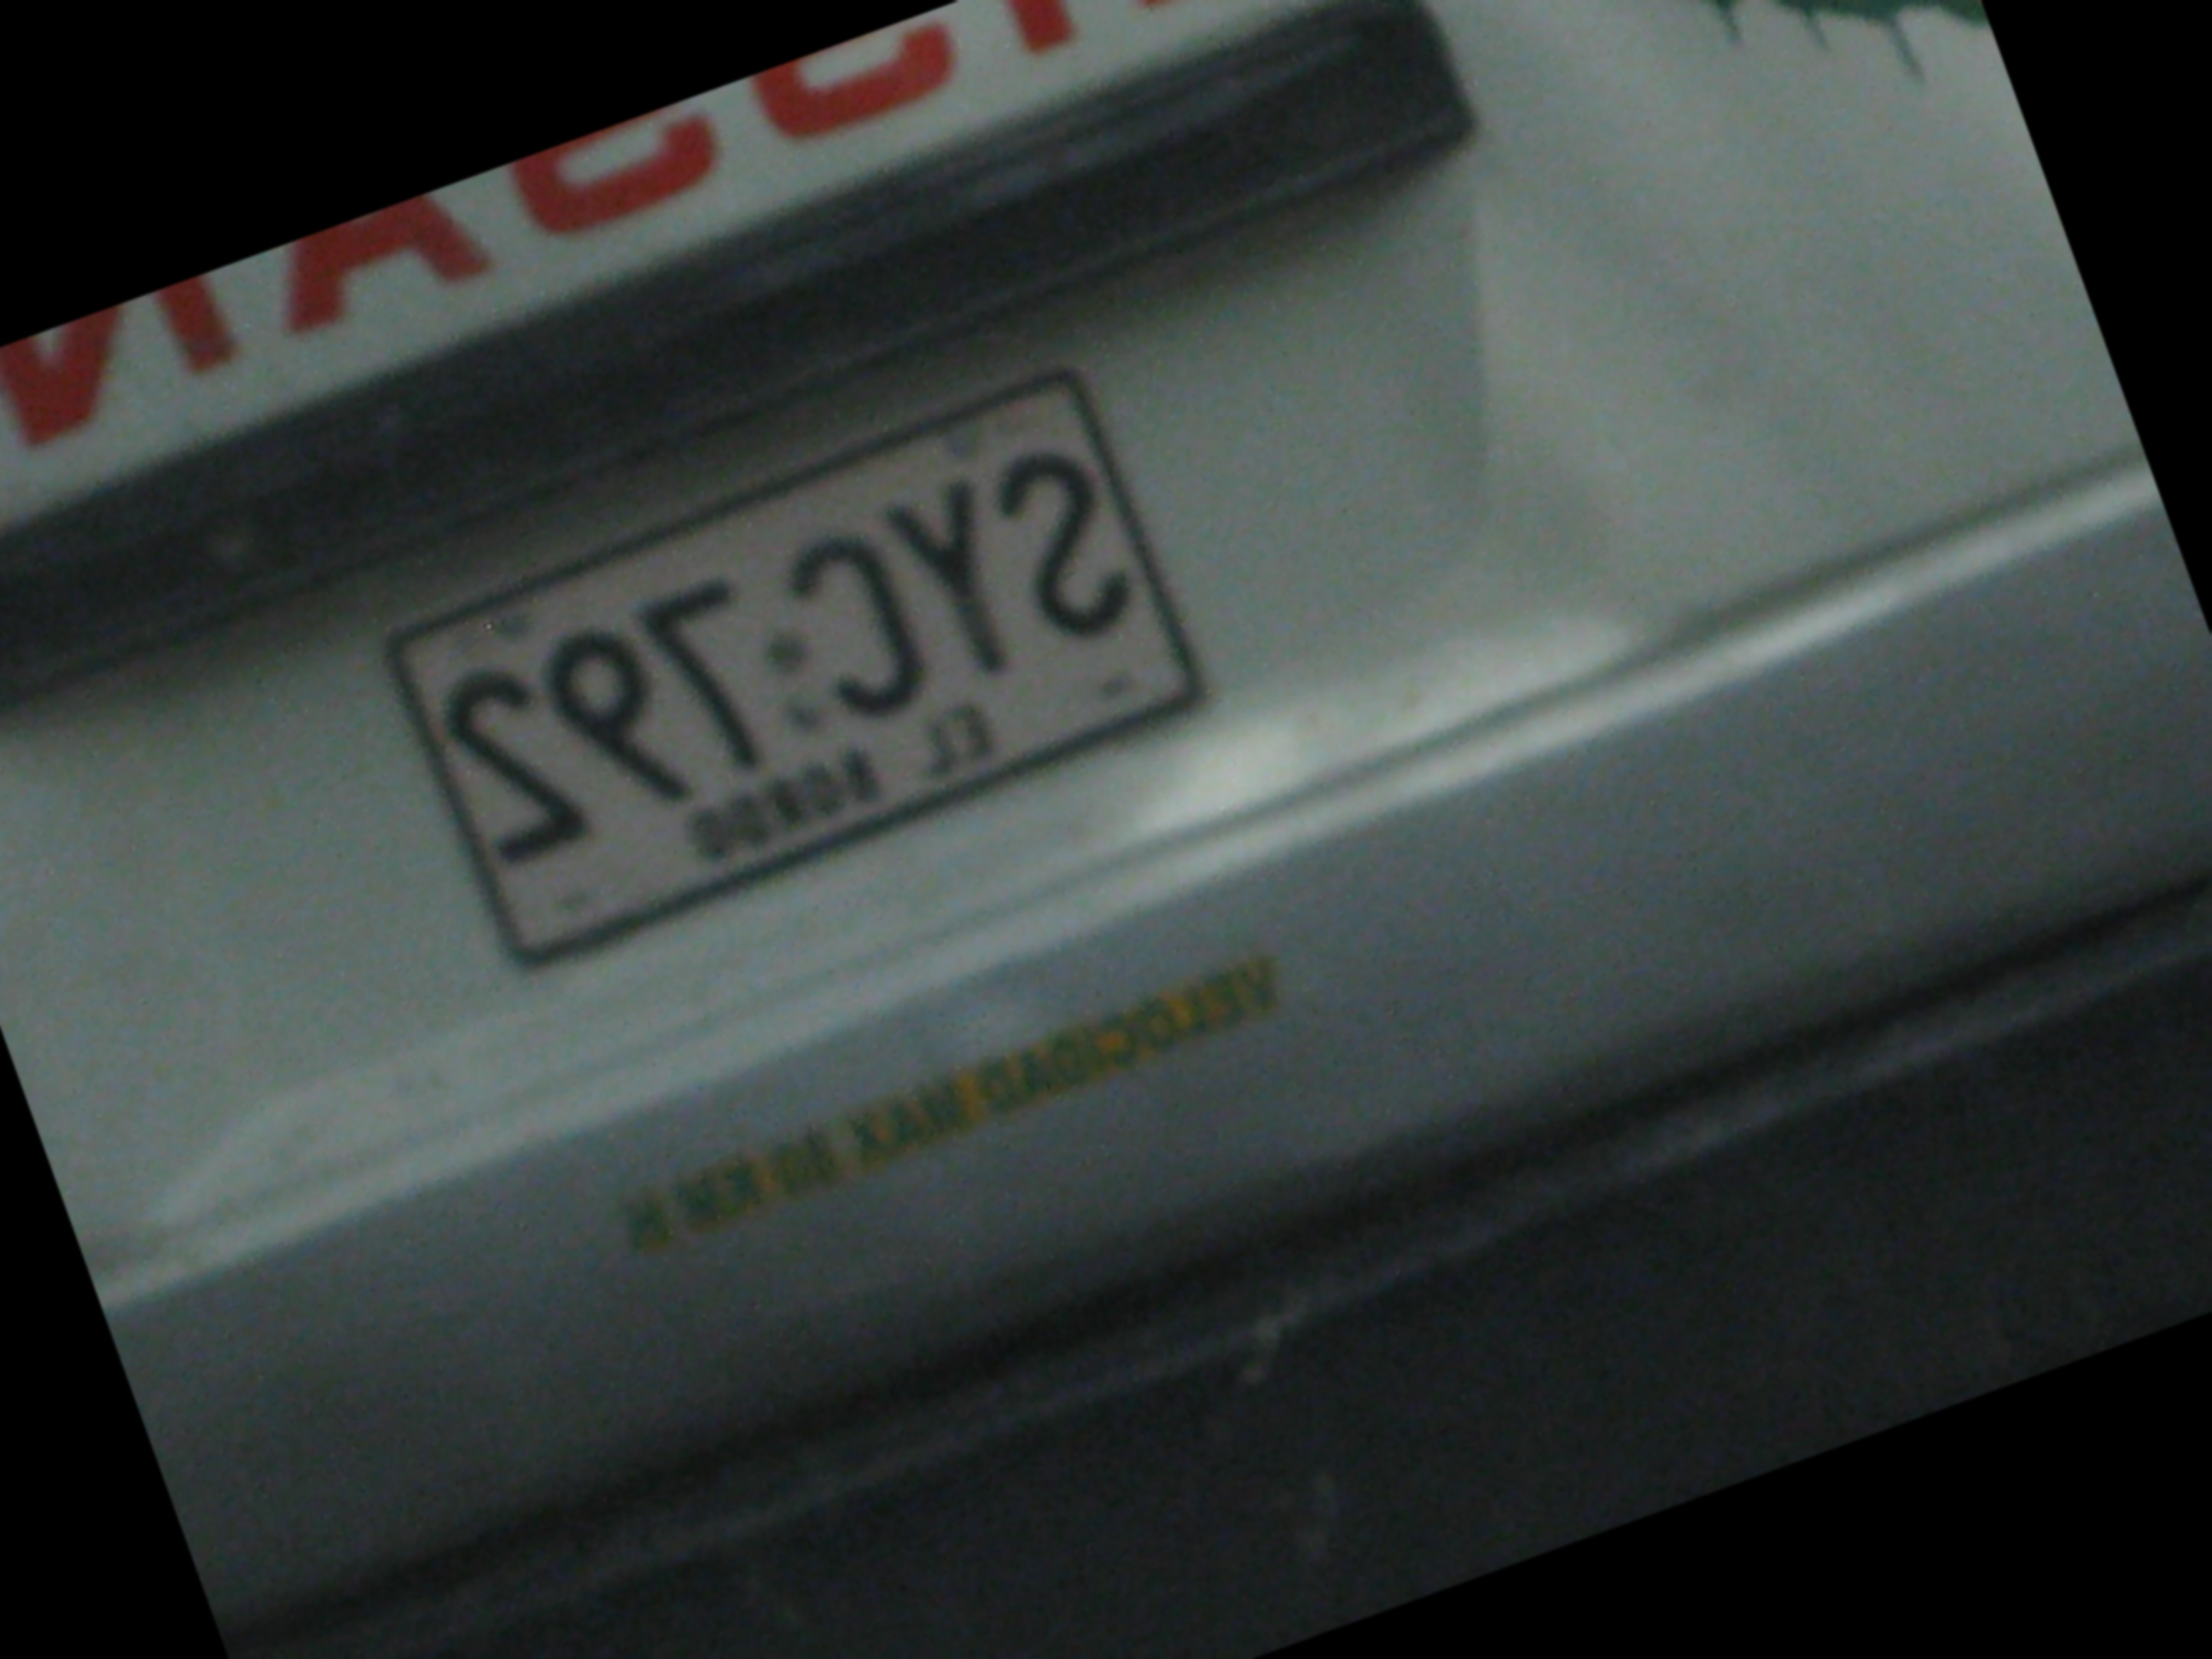placas: (356, 339, 1236, 997)
